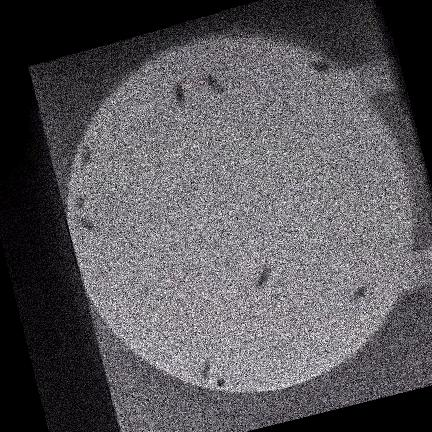fly: (348, 282, 369, 304), (252, 266, 270, 290), (203, 73, 223, 94), (74, 215, 94, 230), (198, 357, 210, 381), (173, 80, 184, 106), (309, 61, 331, 73), (79, 146, 90, 165), (74, 196, 83, 208)
